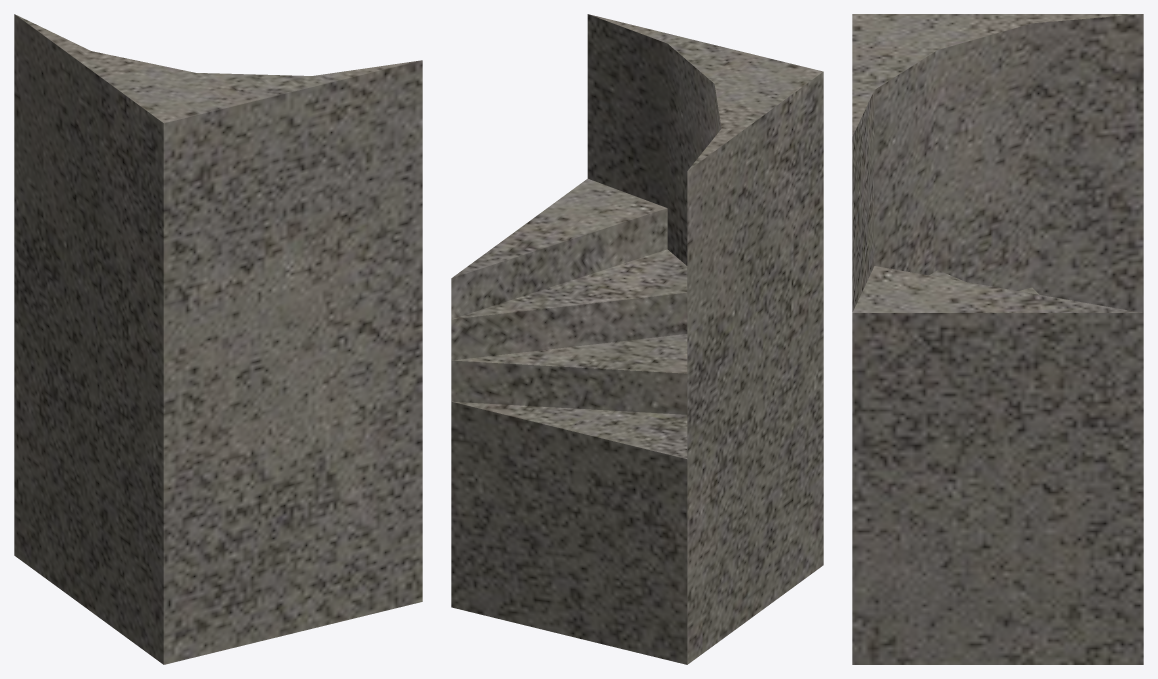
The model's file is WG_SpiralStairsR1mB.obj.
3 renders of one model, left to right at view 1: azimuth 30°, elevation 25°; view 2: azimuth 150°, elevation 25°; view 3: azimuth 270°, elevation 25°, orthographic. The views are drawn at different scales.
Parts seen in each view (by area): view 1: object 2; view 2: unnamed_object1, object 2; view 3: unnamed_object1, object 2.
Part boxes in pixels (x1=…): object 2: x1=14, y1=14, x2=422, y2=664; unnamed_object1: x1=451, y1=178, x2=687, y2=664; object 2: x1=587, y1=14, x2=823, y2=664; unnamed_object1: x1=852, y1=266, x2=1143, y2=664; object 2: x1=852, y1=14, x2=1143, y2=312.
Size of the model in its own units: 1 by 2 by 1.
1 material, 1 textured.
